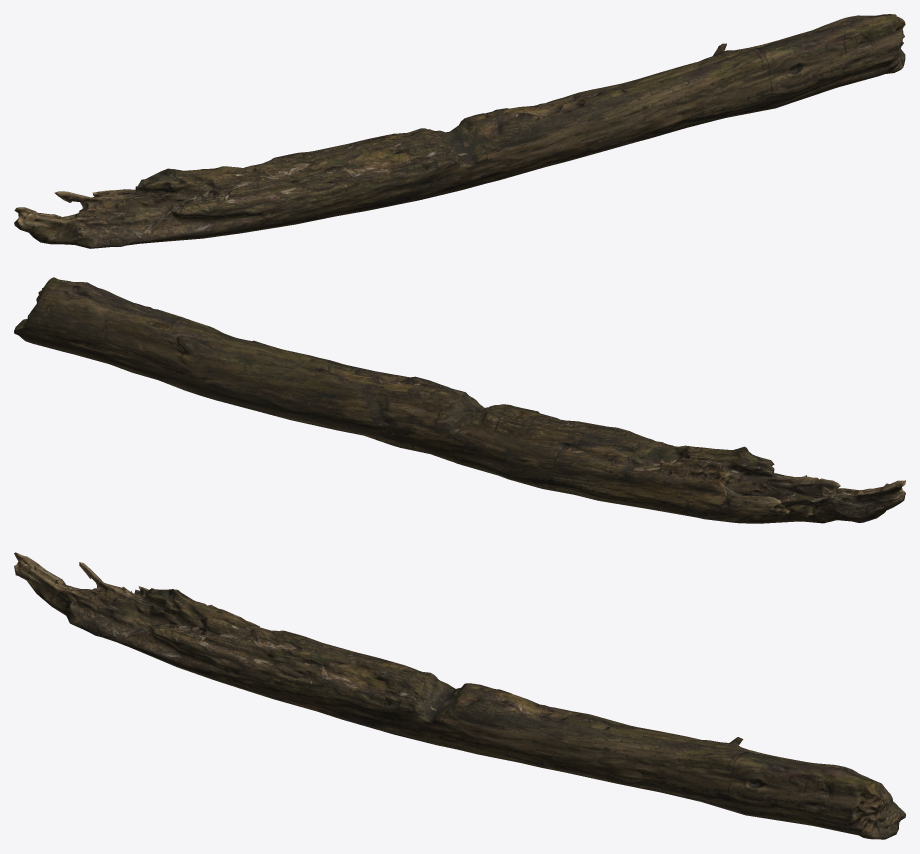
Rendered from dead_tree_trunk_lo.glb.
The picture shows the model from 3 angles, top to bottom: view 1: azimuth 30°, elevation 25°; view 2: azimuth 150°, elevation 25°; view 3: azimuth 330°, elevation 25°; orthographic projection.
Visible parts, largest first — view 1: dead_tree_trunk; view 2: dead_tree_trunk; view 3: dead_tree_trunk.
Part boxes in pixels (x1,y1,x2,y2): dead_tree_trunk: [14, 14, 905, 248]; dead_tree_trunk: [14, 277, 905, 523]; dead_tree_trunk: [14, 552, 905, 839].
Bounding box in the file's own units: 3.05 × 0.2873 × 0.2744.
1 material, 1 textured.
